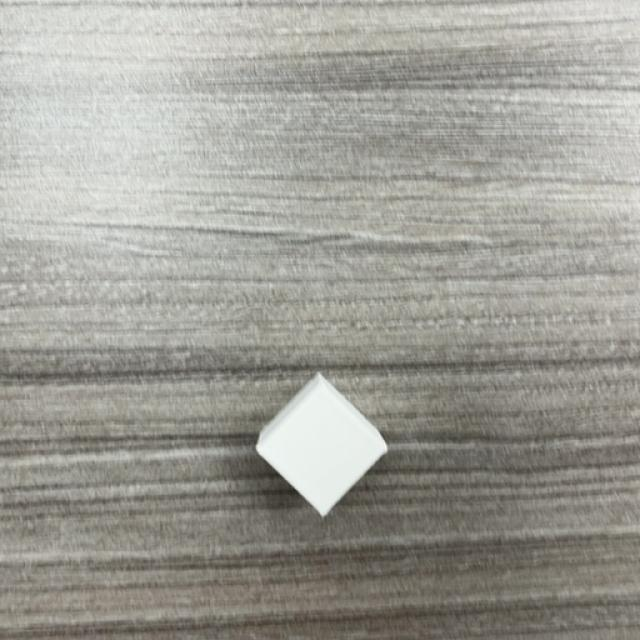Blanco: (255, 375, 388, 519)
